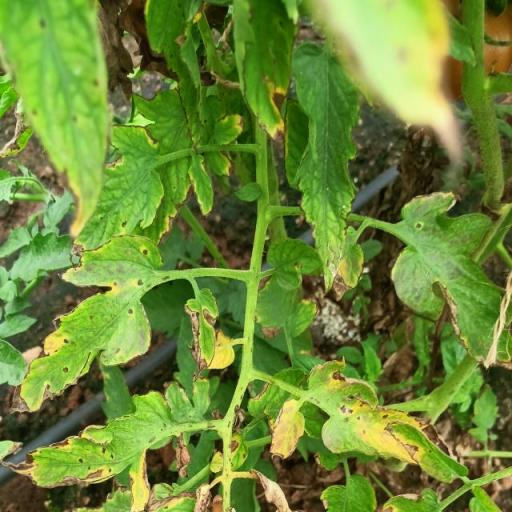disease_tomato: (4, 232, 166, 416), (0, 378, 210, 488), (304, 352, 474, 483), (70, 124, 166, 254)
